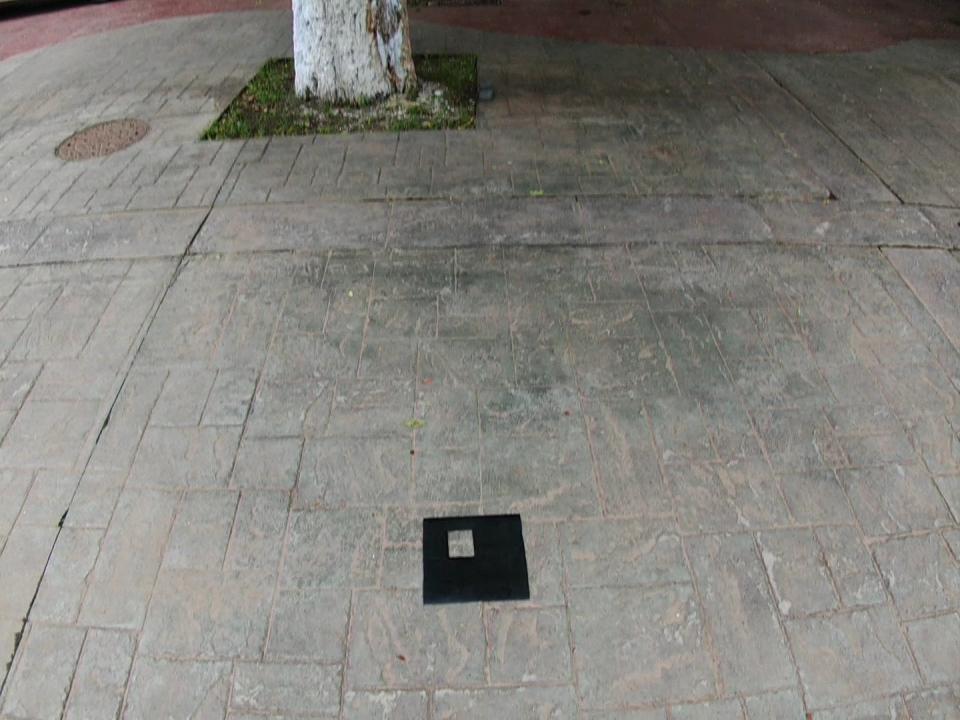qrcode: (423, 513, 530, 604)
